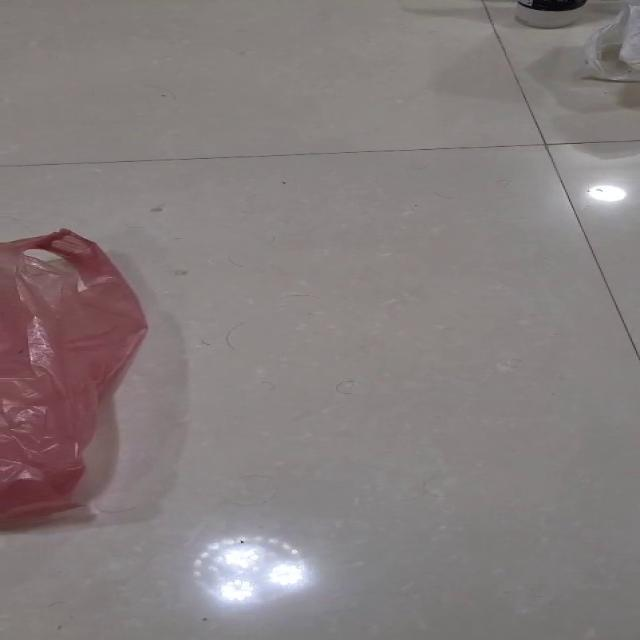plastic: (0, 227, 149, 527)
